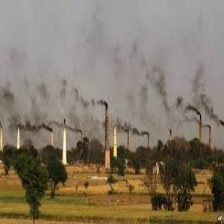smoke: (5, 81, 222, 137)
